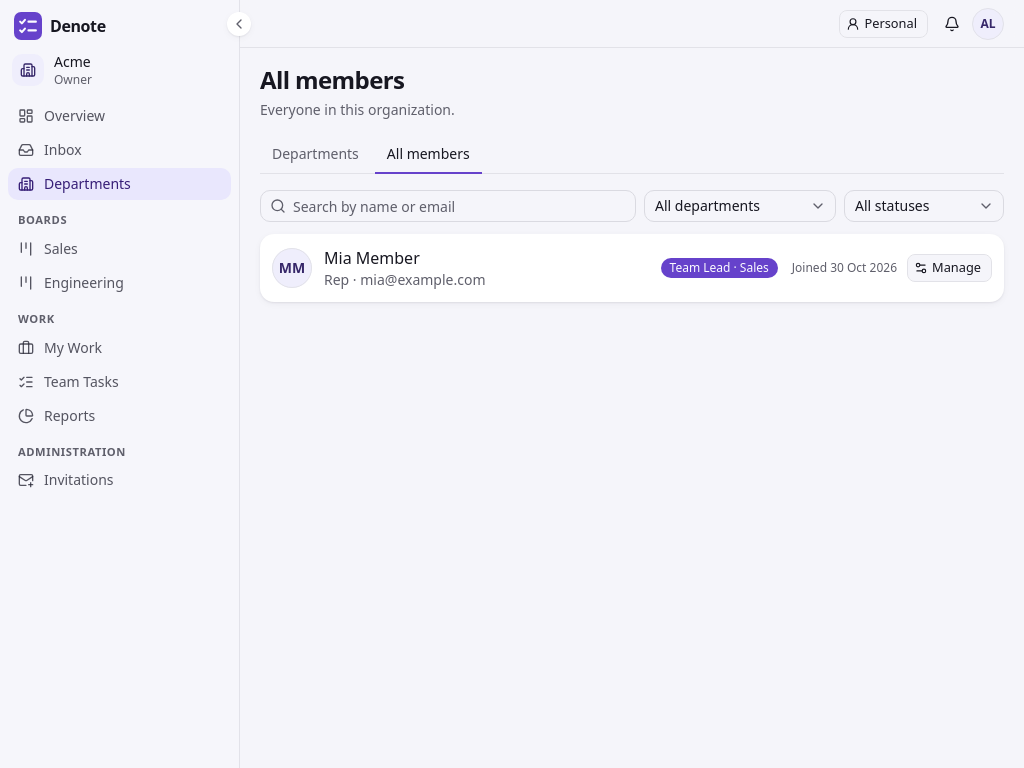
member sheet › cannot confirm when the preview is refused
Click the button with aria-label "Manage Mia Member".
click(950, 268)  # box [907,254,992,282]
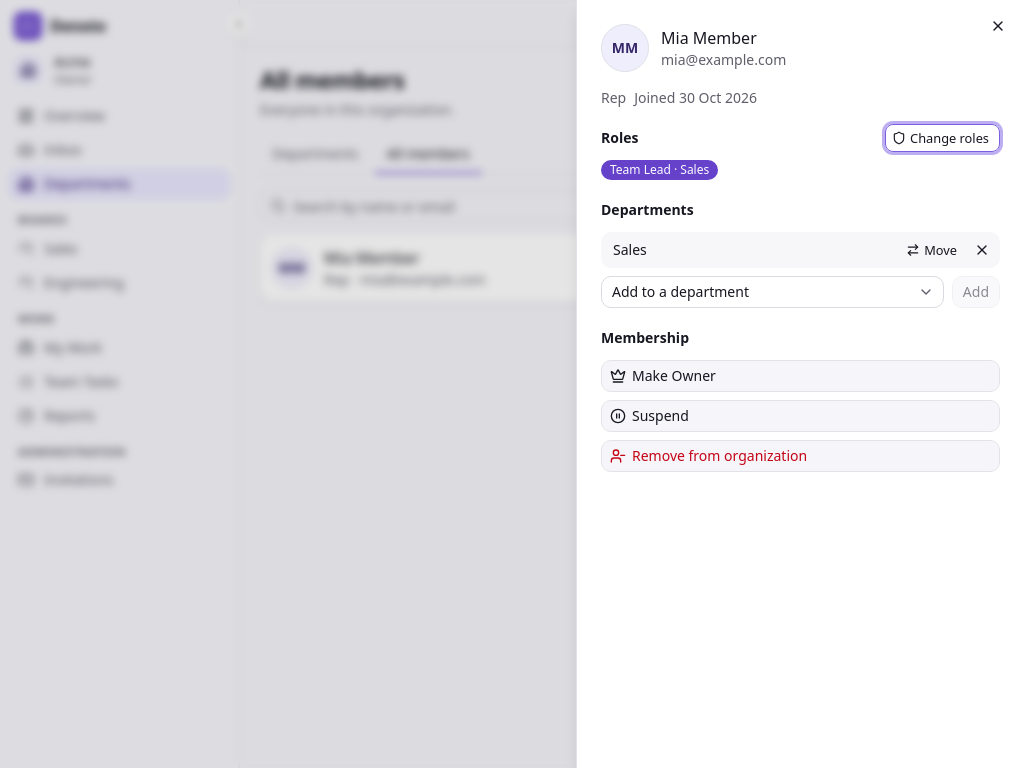
Click the button "Remove from organization".
click(800, 456)  # box [601,440,1000,472]
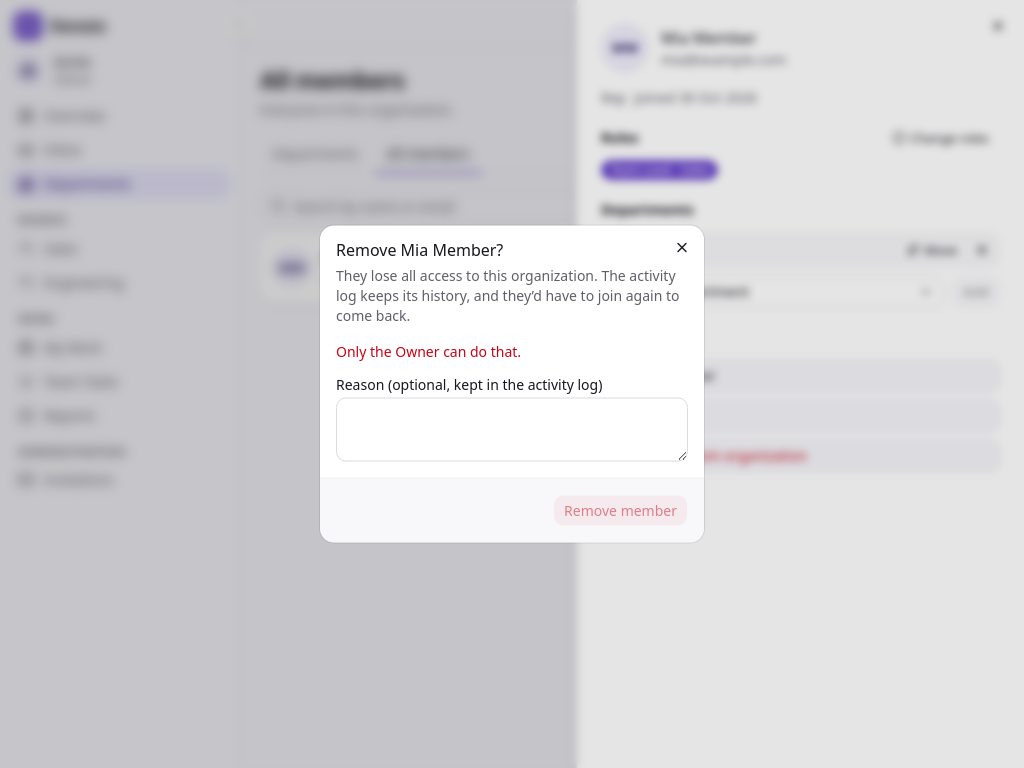
Check: the message reads "Only the Owner can do that.", box [336,342,521,360]
Check: the button "Remove member" is disabled, box [553,494,688,526]
